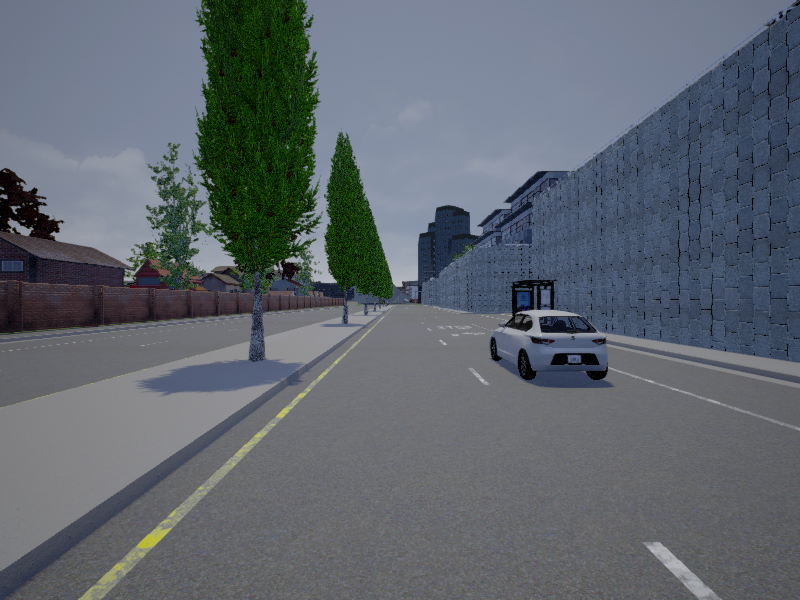Benign: (489, 309, 608, 380)
